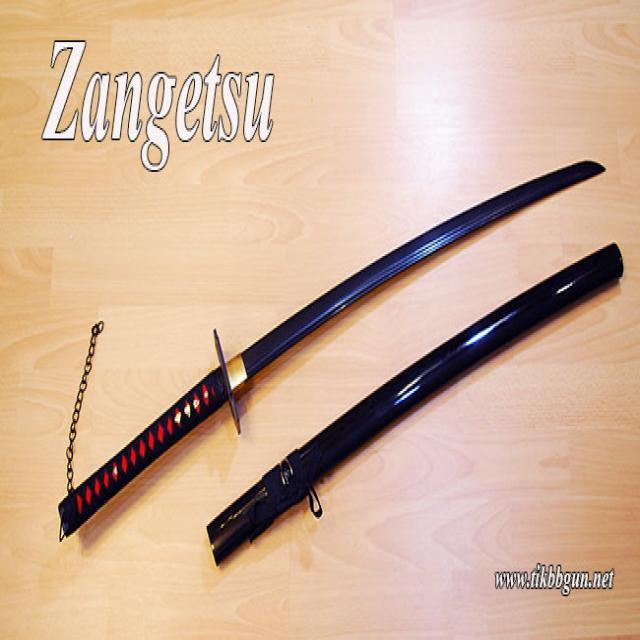long sword: (55, 157, 610, 544)
